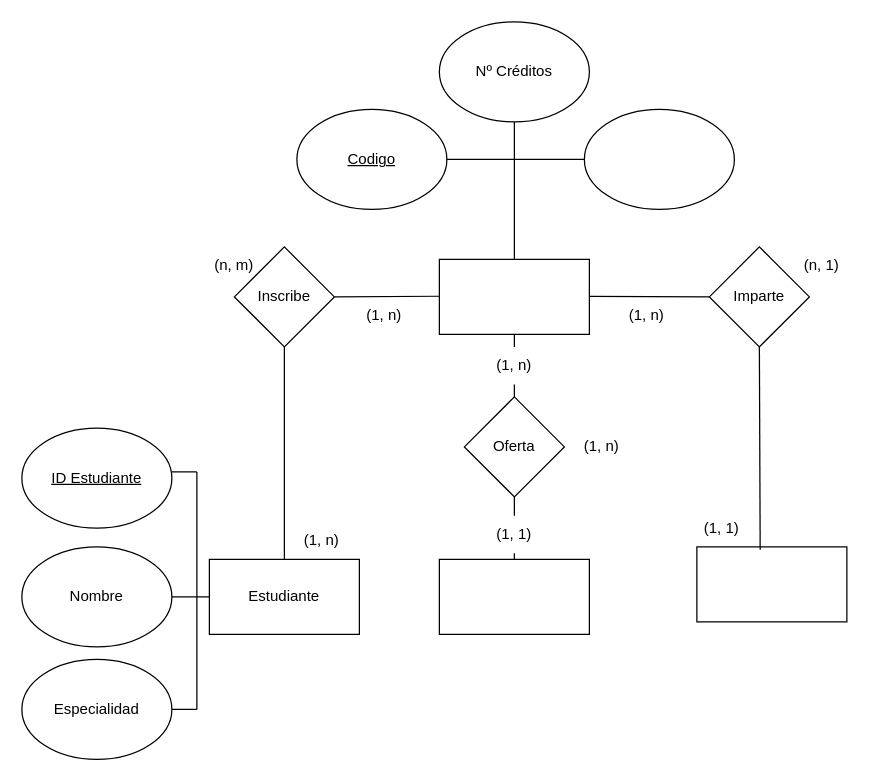
Some shapes in this 881 by 781 pixel diagram are drawn without their labels. Each missing label, with the centre of its shape:
"Curso" belongs at pixel 513 296.
"Profesor(es)" belongs at pixel 771 584.
"Título" belongs at pixel 658 158.
"Universidad" belongs at pixel 513 596.
